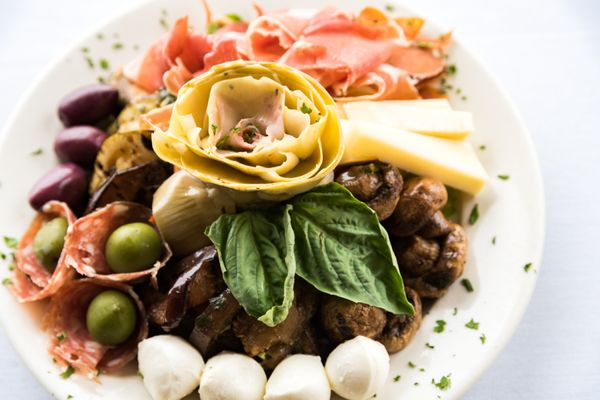sushi: (6, 12, 548, 396), (151, 58, 345, 204)
